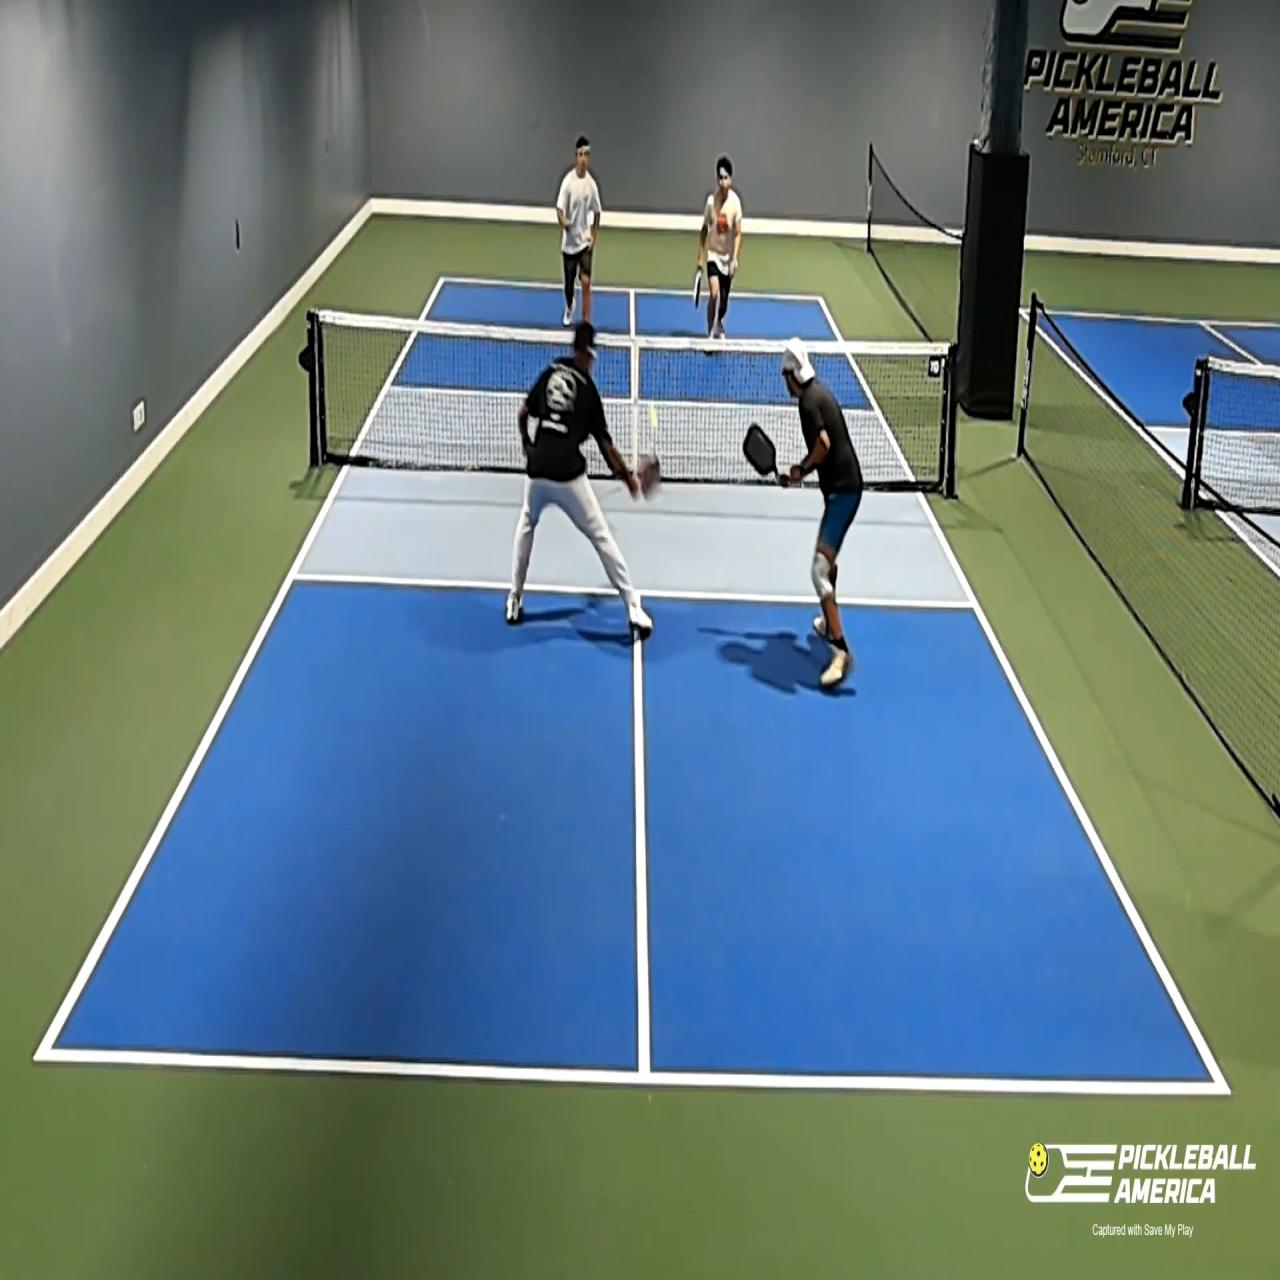Pickleball: (644, 396, 659, 427)
